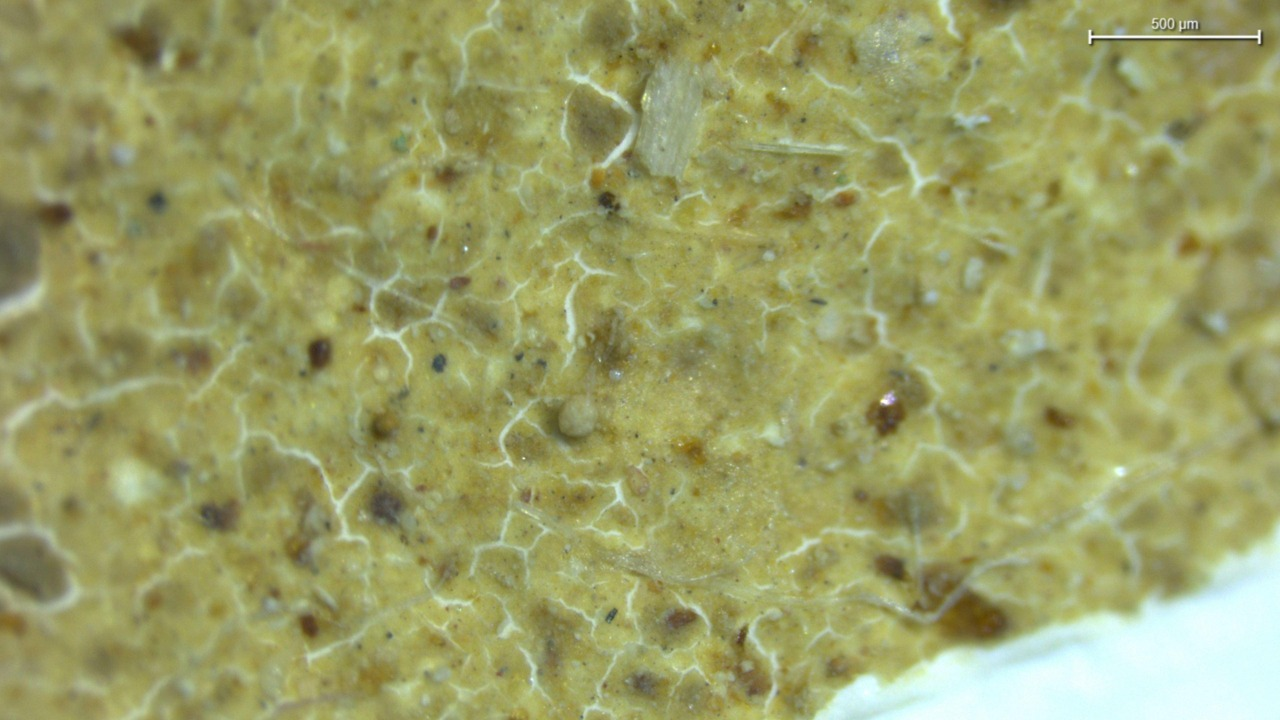microplastic_fragment: (633, 59, 703, 177), (558, 395, 597, 437)
